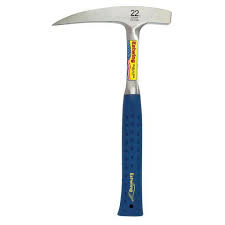hammer: (50, 5, 173, 217)
